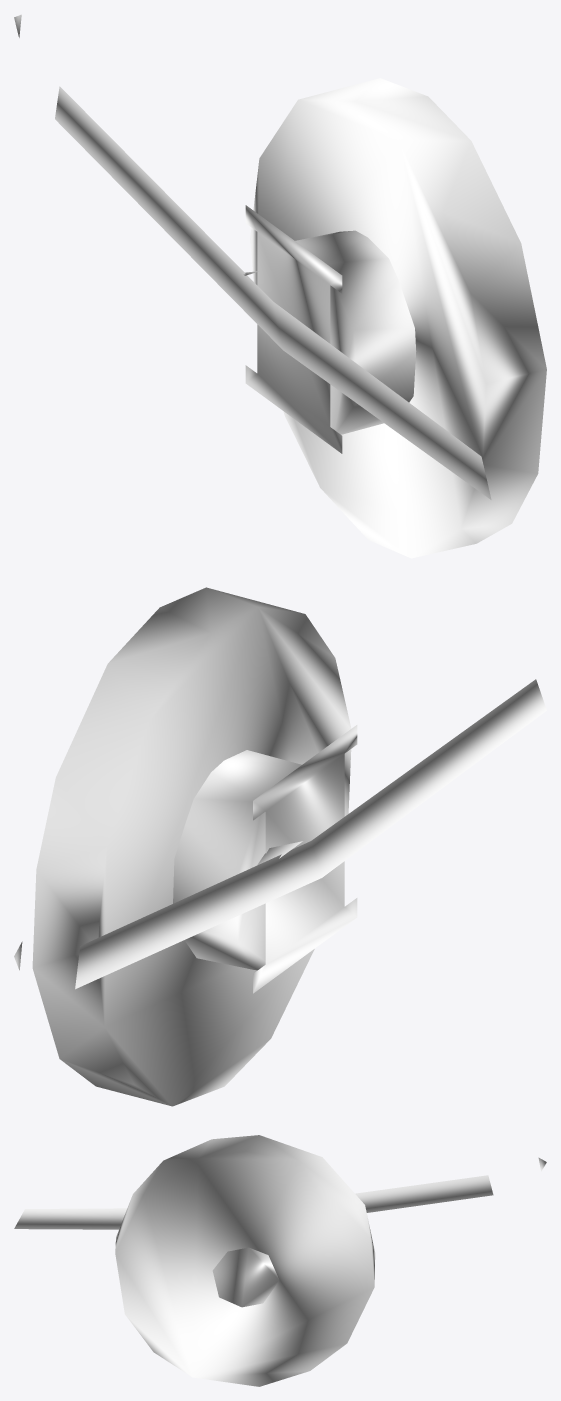
The picture shows the model from 3 angles, top to bottom: view 1: azimuth 30°, elevation 25°; view 2: azimuth 150°, elevation 25°; view 3: azimuth 270°, elevation 25°; orthographic projection. The views are drawn at different scales.
Size of the model in its own units: 0.1545 by 0.3344 by 0.6851.
1 material, 1 textured.
